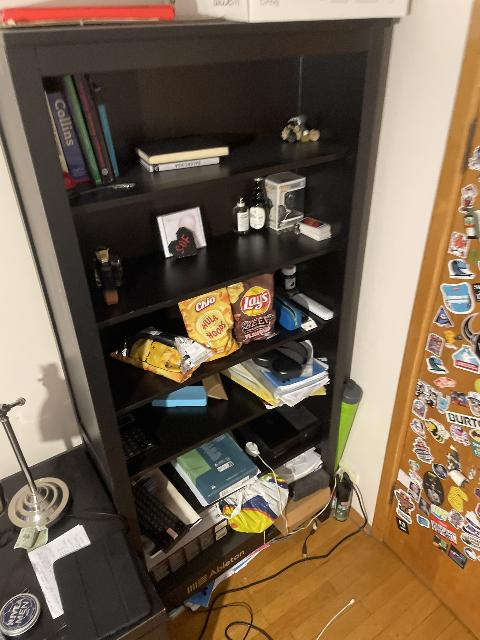Chio Cascaval 125g: (111, 327, 206, 384)
Chio Hula Hoops Cheese 70g: (178, 288, 243, 358)
Lays Beef Grilled Ribs 125g: (229, 272, 277, 342)
